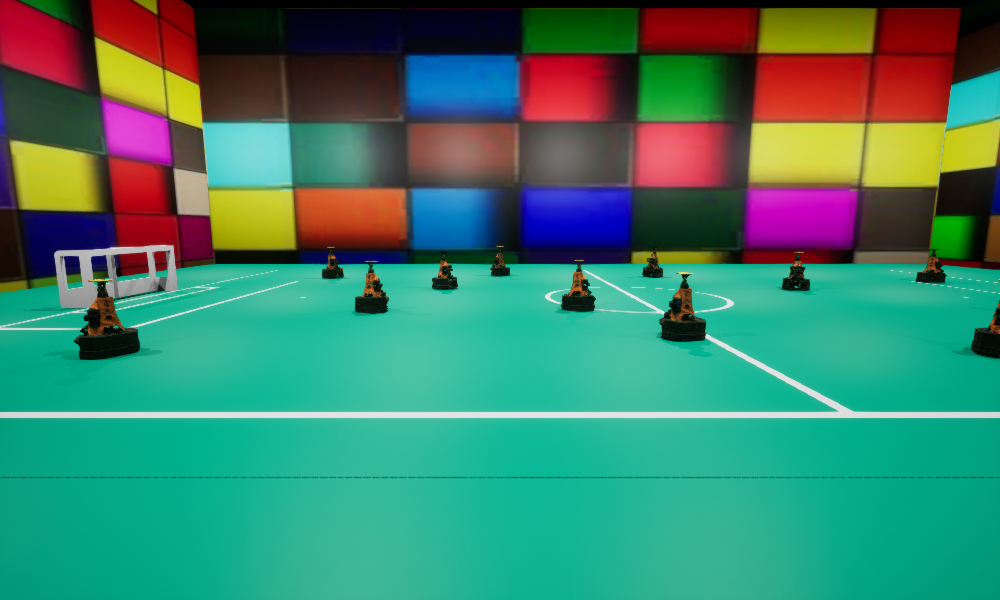o: (73, 279, 139, 358), (659, 272, 705, 341), (971, 279, 999, 358), (561, 260, 595, 311), (355, 261, 388, 313), (782, 252, 809, 290), (916, 249, 946, 282), (432, 252, 457, 289), (322, 247, 343, 278), (642, 247, 662, 277), (490, 246, 509, 275)
